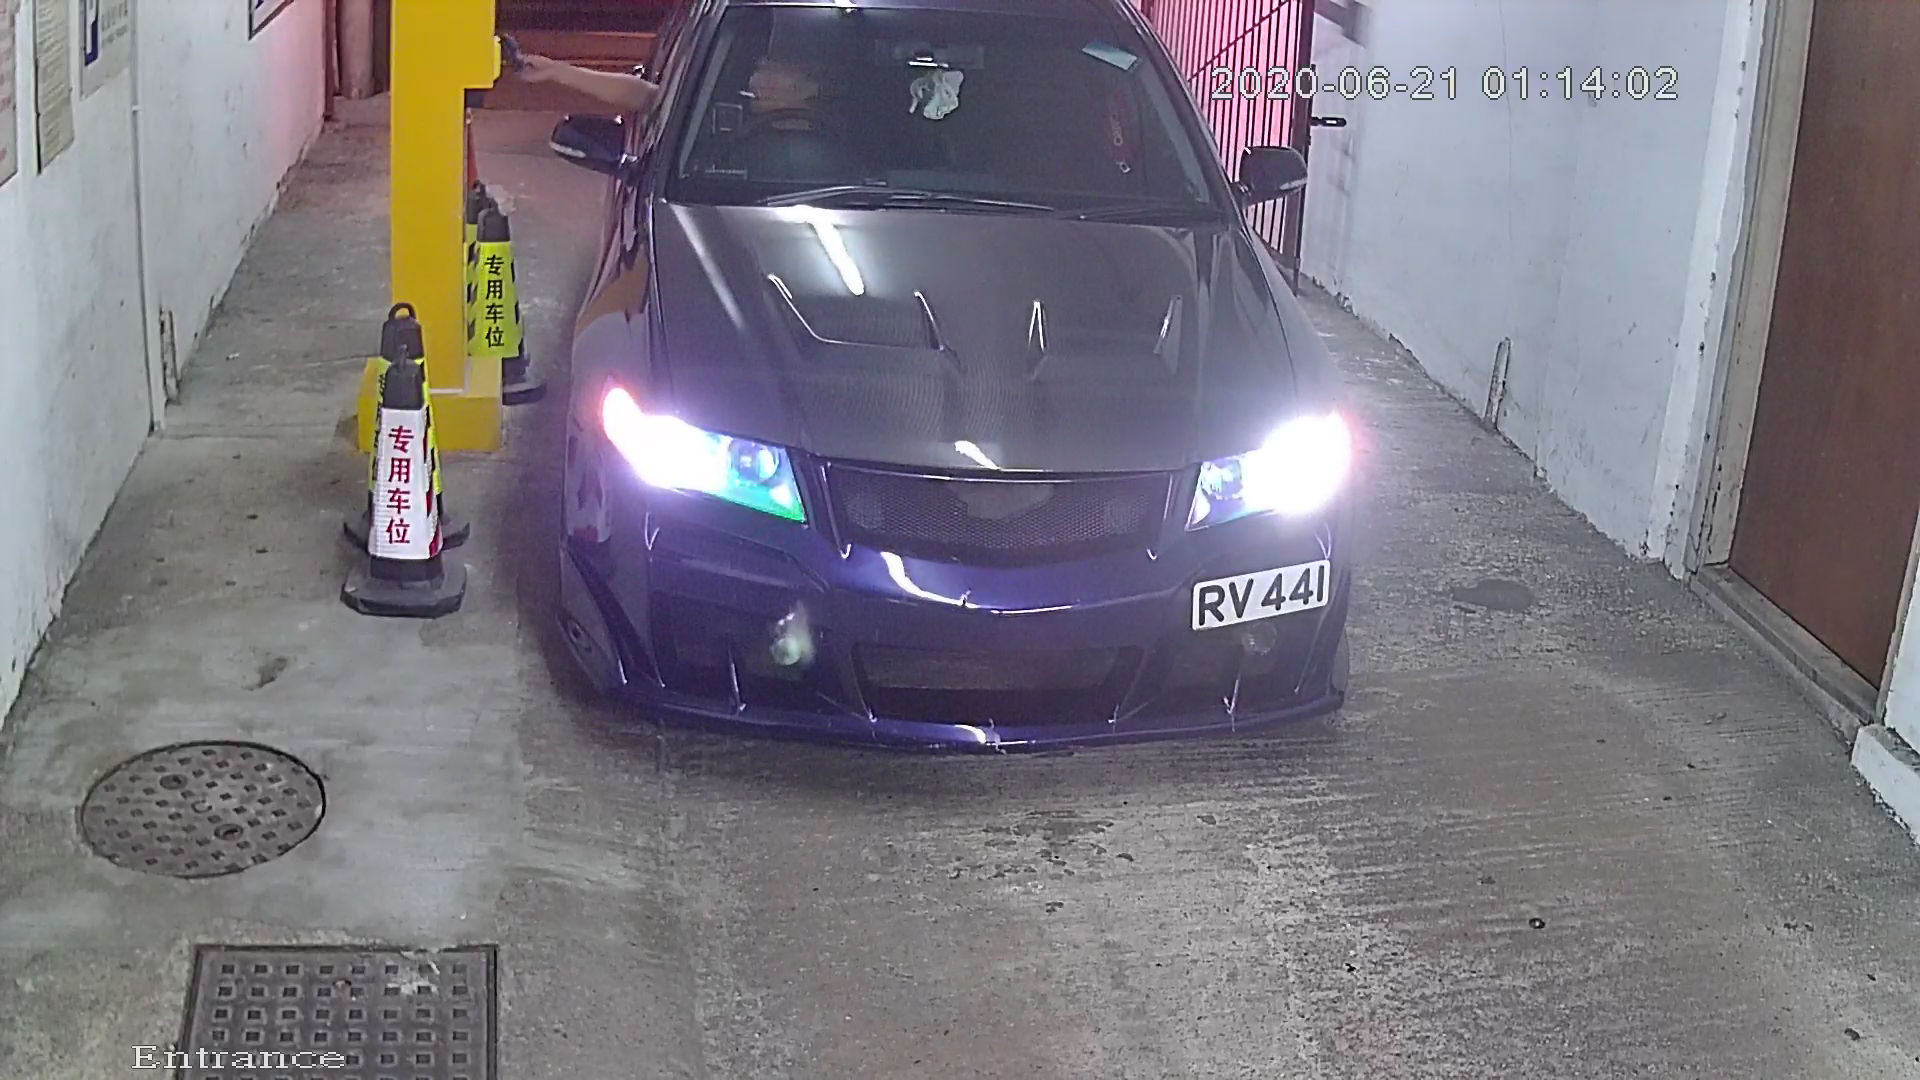privatecar: (491, 3, 1418, 843)
